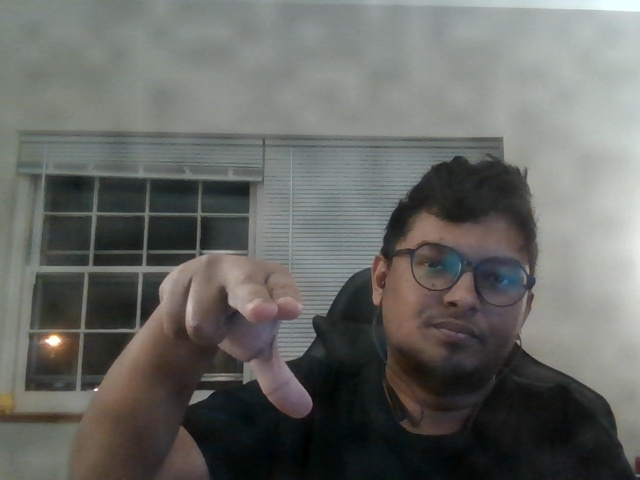no: (152, 244, 323, 425)
